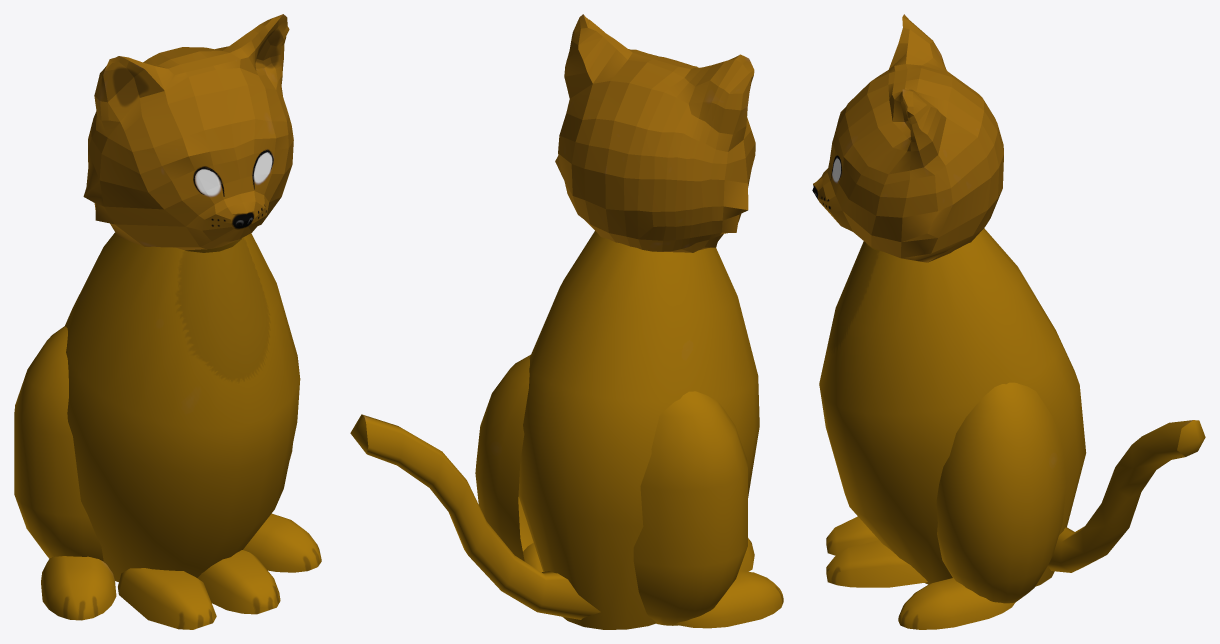
File: cat.fbx
The picture shows the model from 3 angles, left to right: view 1: azimuth 30°, elevation 25°; view 2: azimuth 150°, elevation 25°; view 3: azimuth 270°, elevation 25°; orthographic projection. The views are drawn at different scales.
Visible parts, largest first — view 1: polySurface3; view 2: polySurface3; view 3: polySurface3.
Boxes of the visible parts, box(x1,y1,x2,y2) form: polySurface3: box(14, 14, 321, 629); polySurface3: box(350, 14, 783, 629); polySurface3: box(812, 14, 1205, 629).
Size of the model in its own units: 26.29 by 47.08 by 32.16.
Materials: 2 (2 with a texture image).
